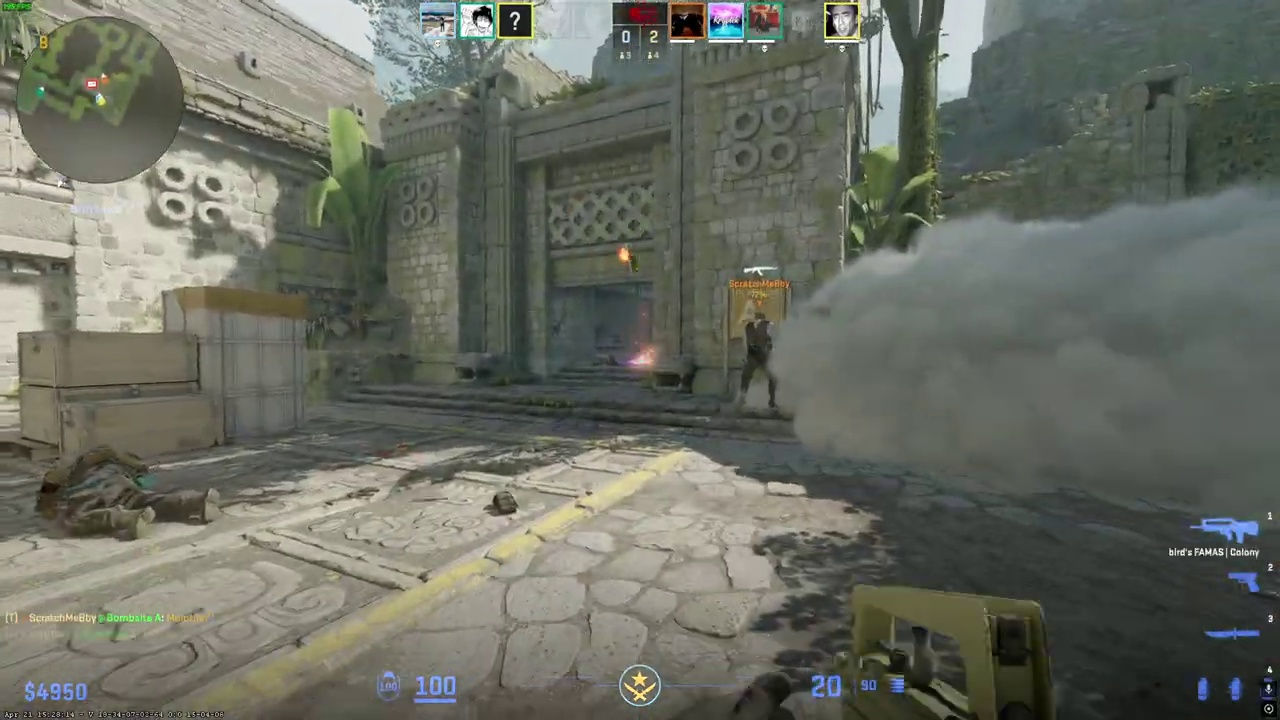Terrorist: (736, 311, 779, 408)
